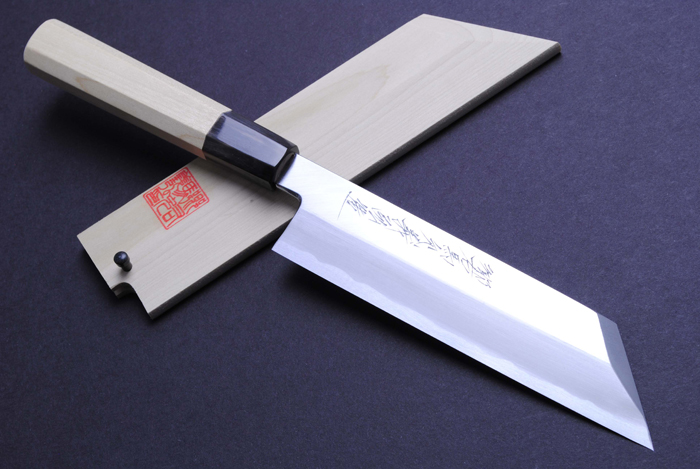knief: (21, 18, 664, 445)
